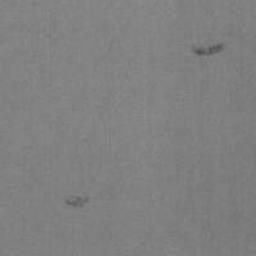Inclusion: (192, 44, 225, 56), (65, 196, 90, 209)
